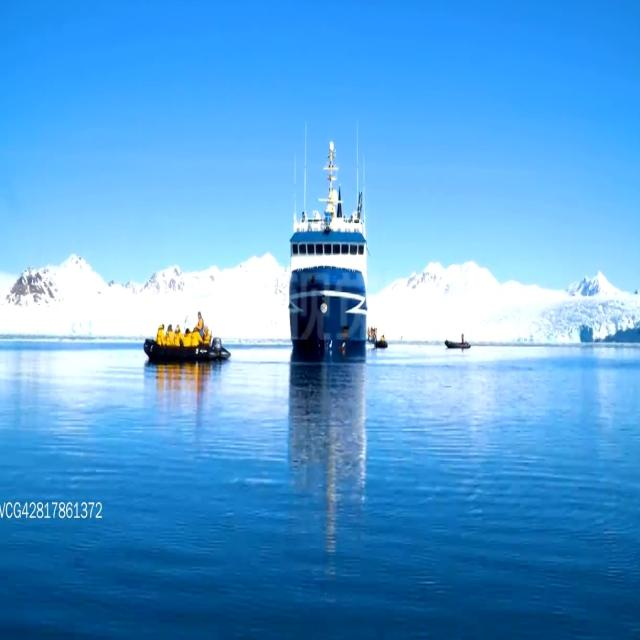houseboat: (144, 308, 229, 368), (441, 331, 472, 350), (375, 334, 389, 350)
passenger ship: (287, 140, 371, 359)
